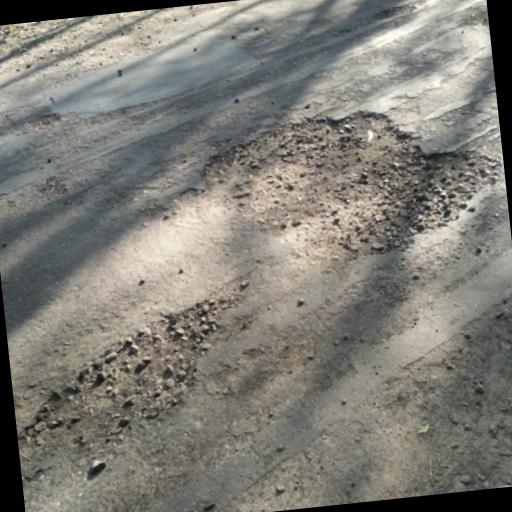pothole: (180, 92, 508, 279), (6, 294, 250, 457)
